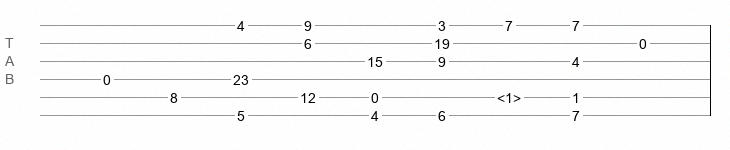0: (103, 72, 111, 82), (371, 90, 379, 100), (639, 36, 647, 46)
1: (572, 90, 580, 100)
12: (300, 90, 316, 100)
15: (367, 54, 383, 64)
19: (434, 36, 450, 46)
23: (233, 72, 249, 82)
3: (438, 18, 446, 28)
4: (237, 18, 245, 28), (371, 108, 379, 118), (572, 54, 580, 64)
5: (237, 108, 245, 118)
6: (304, 36, 312, 46), (438, 108, 446, 118)
7: (505, 18, 513, 28), (572, 18, 580, 28), (572, 108, 580, 118)
8: (170, 90, 178, 100)
9: (304, 18, 312, 28), (438, 54, 446, 64)
harmonic: (497, 90, 521, 100)
